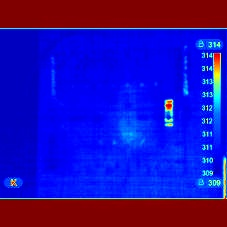Medium: (157, 99, 179, 129)
